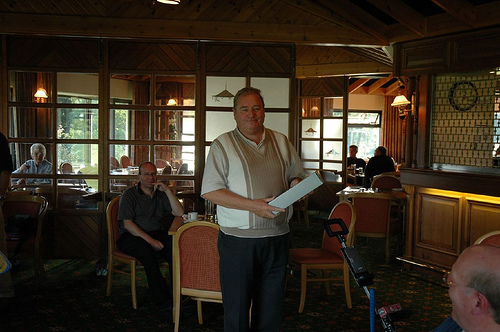without_mask: (440, 242, 500, 332), (232, 93, 266, 135), (137, 163, 159, 191), (28, 143, 48, 166)
